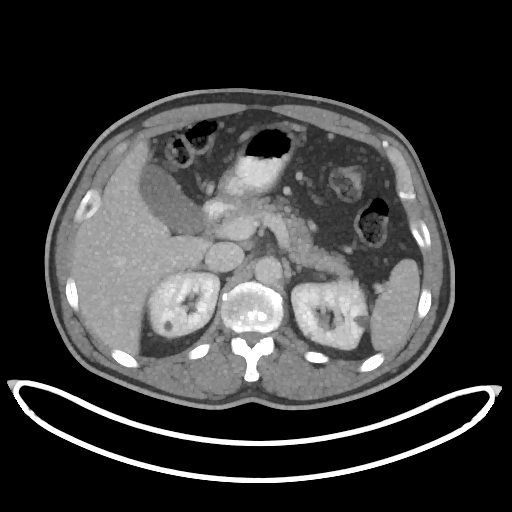Lesion: (353, 313, 370, 331)
